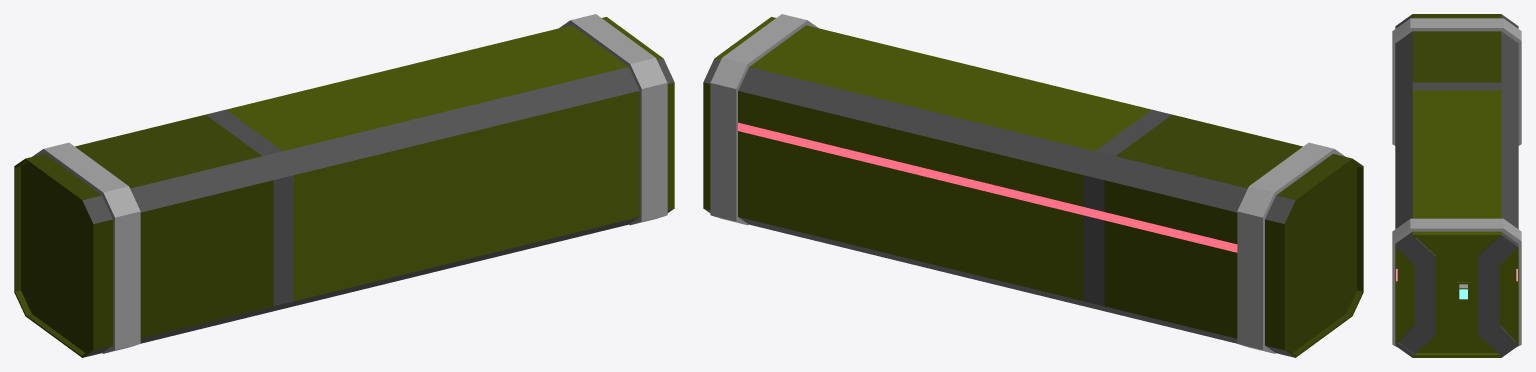
The model's file is Long Green Container.fbx.
3 renders of one model, left to right at view 1: azimuth 30°, elevation 25°; view 2: azimuth 150°, elevation 25°; view 3: azimuth 270°, elevation 25°, orthographic. The views are drawn at different scales.
Visible parts, largest first — view 1: Cube.003; view 2: Cube.003; view 3: Cube.003.
Boxes of the visible parts, bbox=[...] form: Cube.003: bbox=[14, 14, 674, 357]; Cube.003: bbox=[703, 14, 1363, 357]; Cube.003: bbox=[1392, 14, 1521, 357].
Bounding box in the file's own units: 1035 × 275 × 256.
